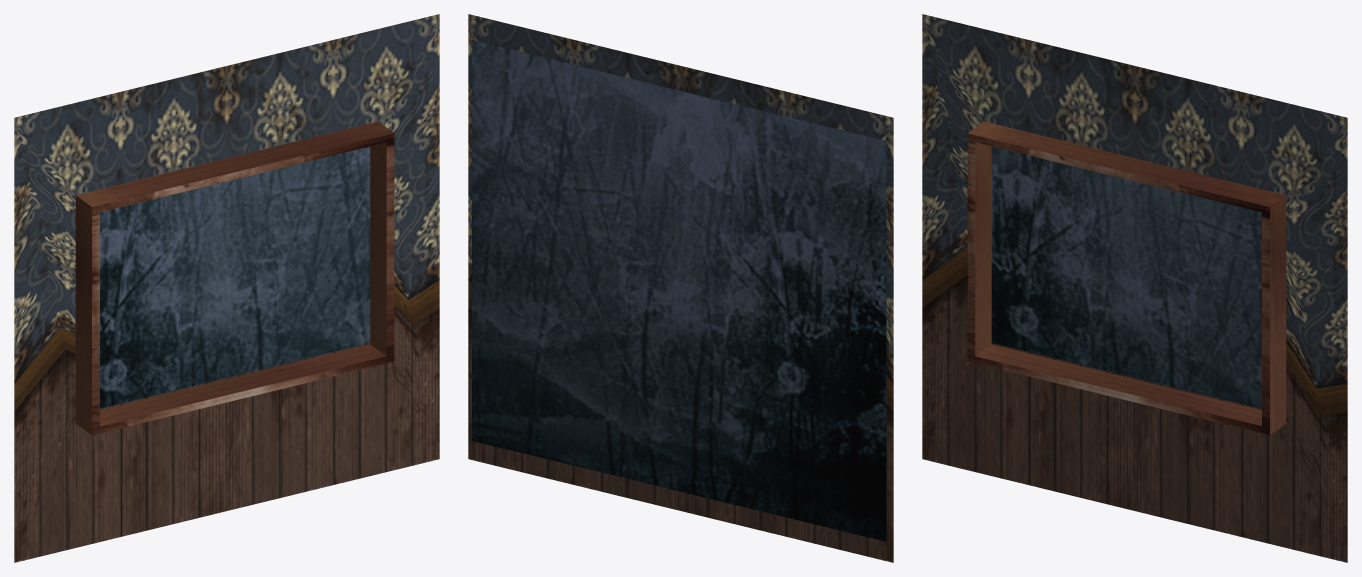
The model's file is wall_blue_window_2.obj.
3 views of the same model, side by side, from view 1: azimuth 30°, elevation 25°; view 2: azimuth 150°, elevation 25°; view 3: azimuth 330°, elevation 25° (orthographic).
Parts seen in each view (by area): view 1: Wall_Window_3x3_01; view 2: Wall_Window_3x3_01; view 3: Wall_Window_3x3_01.
Part boxes in pixels (box(x1,y1,x2,y2)): Wall_Window_3x3_01: box(14, 14, 439, 562); Wall_Window_3x3_01: box(468, 14, 893, 562); Wall_Window_3x3_01: box(922, 14, 1347, 562).
Size of the model in its own units: 3 by 3 by 0.2185.
Materials: 3 (3 with a texture image).
